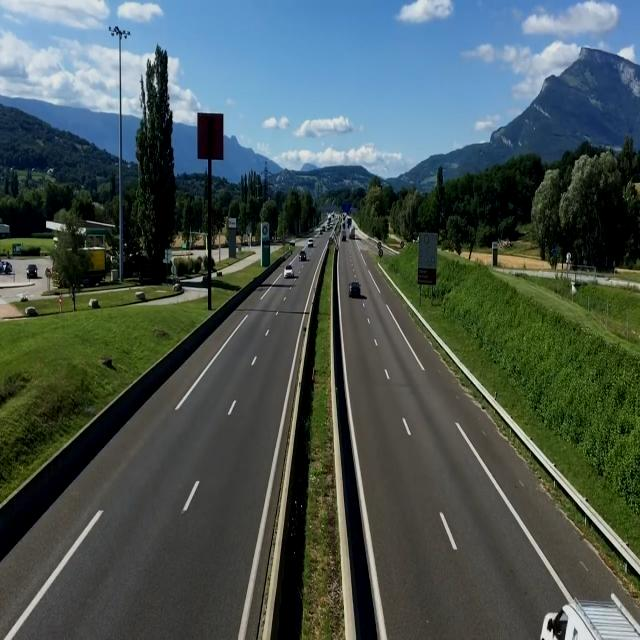Car: (348, 281, 362, 298), (283, 265, 294, 278), (298, 250, 308, 262)
Van: (307, 238, 314, 247)
